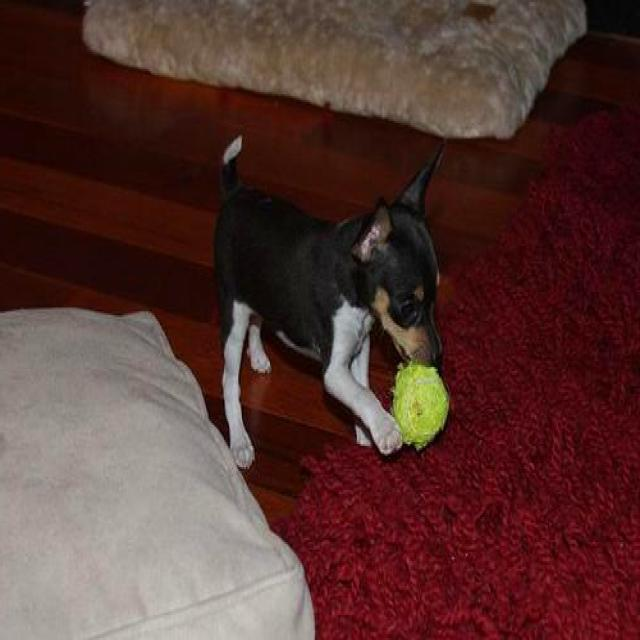toy_terrier: (208, 132, 452, 472)
